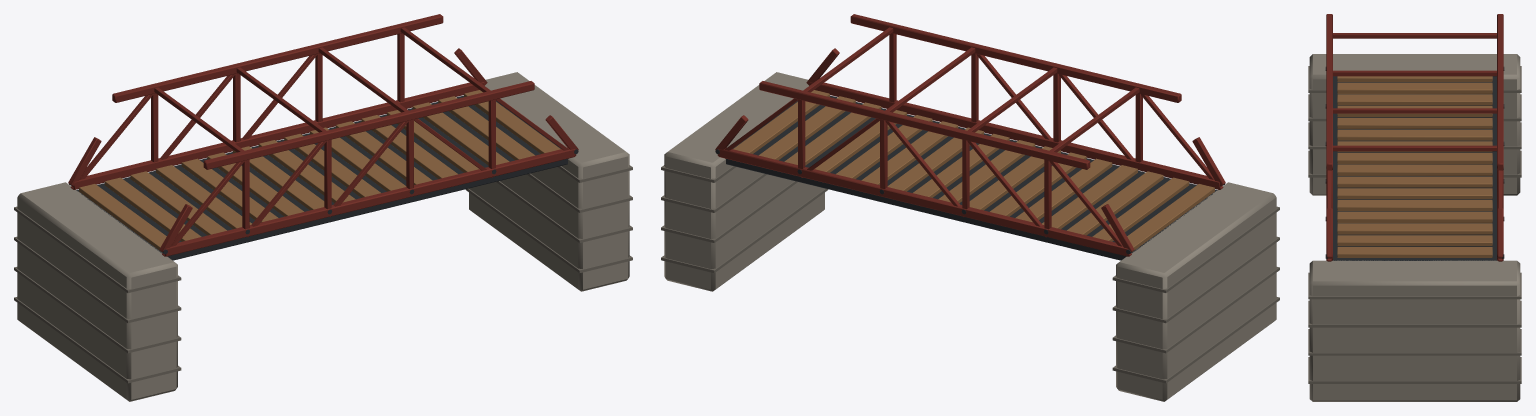
The model's file is puente_hierro.glb.
The picture shows the model from 3 angles, left to right: view 1: azimuth 30°, elevation 25°; view 2: azimuth 150°, elevation 25°; view 3: azimuth 270°, elevation 25°; orthographic projection. The views are drawn at different scales.
Visible parts, largest first — view 1: puente_hierro; view 2: puente_hierro; view 3: puente_hierro.
Boxes of the visible parts, left/top/right/bottom form: puente_hierro: left=14, top=14, right=632, bottom=401; puente_hierro: left=661, top=14, right=1279, bottom=401; puente_hierro: left=1308, top=14, right=1521, bottom=401.
Size of the model in its own units: 4.92 by 1.99 by 1.92.
